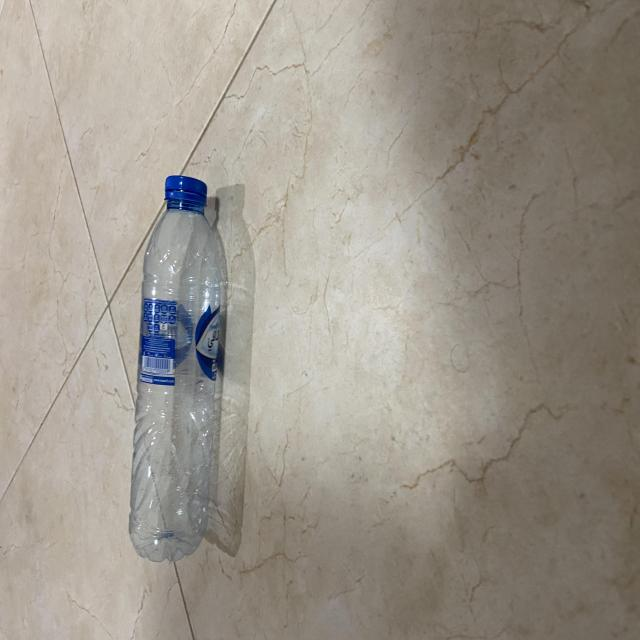plastic: (129, 168, 219, 572)
